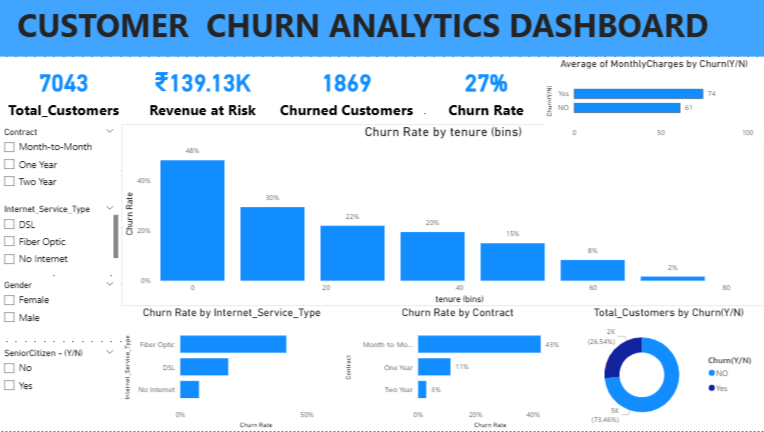

Layout of this report page (visuals, bound fields, positions):
{"tool":"powerbi","page":{"name":"Page 1","canvas":[1280,720],"ordinal":0},"visuals":[{"type":"card","fields":{"Values":["Customer_churn_processed for bi.Total_Customers"]},"box":[0,96,224,112],"z":0},{"type":"card","fields":{"Values":["Customer_churn_processed for bi.Churned Customers"]},"box":[464,96,240,112],"z":1000},{"type":"card","fields":{"Values":["Customer_churn_processed for bi.Churn Rate"]},"box":[720,96,192,112],"z":2000},{"type":"card","fields":{"Values":["Customer_churn_processed for bi.Revenue at Risk"]},"box":[224,96,240,112],"z":3000},{"type":"donutChart","fields":{"Category":["Customer_churn_processed for bi.Churn(Y/N)"],"Y":["Customer_churn_processed for bi.Total_Customers"]},"box":[960,512,320,208],"z":4000},{"type":"clusteredBarChart","fields":{"Category":["Customer_churn_processed for bi.Contract"],"Y":["Customer_churn_processed for bi.Churn Rate"]},"box":[576,512,384,208],"z":5000},{"type":"lineClusteredColumnComboChart","fields":{"Category":["Customer_churn_processed for bi.tenure (bins)"],"Y":["Customer_churn_processed for bi.Churn Rate"]},"box":[208,208,1072,304],"z":6000},{"type":"barChart","fields":{"Category":["Customer_churn_processed for bi.Churn(Y/N)"],"Y":["Avg(Customer_churn_processed for bi.MonthlyCharges)"]},"box":[912,96,368,144],"z":7000},{"type":"clusteredBarChart","fields":{"Y":["Customer_churn_processed for bi.Churn Rate"],"Category":["Customer_churn_processed for bi.Internet_Service_Type"]},"box":[208,512,368,208],"z":8000},{"type":"slicer","fields":{"Values":["Customer_churn_processed for bi.Contract"]},"box":[0,208,208,128],"z":9000},{"type":"slicer","fields":{"Values":["Customer_churn_processed for bi.gender-(M/F)"]},"box":[0,464,208,96],"z":10000},{"type":"slicer","fields":{"Values":["Customer_churn_processed for bi.Internet_Service_Type"]},"box":[0,336,208,112],"z":11000},{"type":"slicer","fields":{"Values":["Customer_churn_processed for bi.SeniorCitizen - (Y/N)"]},"box":[0,576,208,144],"z":12000},{"type":"textbox","box":[0,0,1280,96],"z":13000}]}

Visuals, with their boxes in screenshot pixels (x1, y1, x2, y2), scaled from the page's 1280x720 canvas onto the 764x432 screenshot:
card - Customer_churn_processed for bi.Total_Customers: bbox=(0, 58, 134, 125)
card - Customer_churn_processed for bi.Churned Customers: bbox=(277, 58, 420, 125)
card - Customer_churn_processed for bi.Churn Rate: bbox=(430, 58, 544, 125)
card - Customer_churn_processed for bi.Revenue at Risk: bbox=(134, 58, 277, 125)
donutChart - Customer_churn_processed for bi.Churn(Y/N) x Customer_churn_processed for bi.Total_Customers: bbox=(573, 307, 763, 431)
clusteredBarChart - Customer_churn_processed for bi.Contract x Customer_churn_processed for bi.Churn Rate: bbox=(344, 307, 573, 431)
lineClusteredColumnComboChart - Customer_churn_processed for bi.tenure (bins) x Customer_churn_processed for bi.Churn Rate: bbox=(124, 125, 763, 307)
barChart - Customer_churn_processed for bi.Churn(Y/N) x Avg(Customer_churn_processed for bi.MonthlyCharges): bbox=(544, 58, 763, 144)
clusteredBarChart - Customer_churn_processed for bi.Churn Rate x Customer_churn_processed for bi.Internet_Service_Type: bbox=(124, 307, 344, 431)
slicer - Customer_churn_processed for bi.Contract: bbox=(0, 125, 124, 202)
slicer - Customer_churn_processed for bi.gender-(M/F): bbox=(0, 278, 124, 336)
slicer - Customer_churn_processed for bi.Internet_Service_Type: bbox=(0, 202, 124, 269)
slicer - Customer_churn_processed for bi.SeniorCitizen - (Y/N): bbox=(0, 346, 124, 431)
textbox: bbox=(0, 0, 763, 58)
